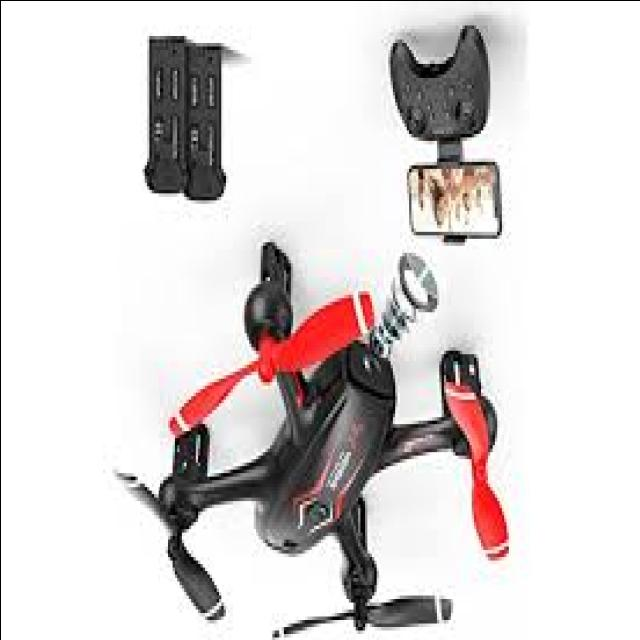drone: (106, 214, 540, 640)
